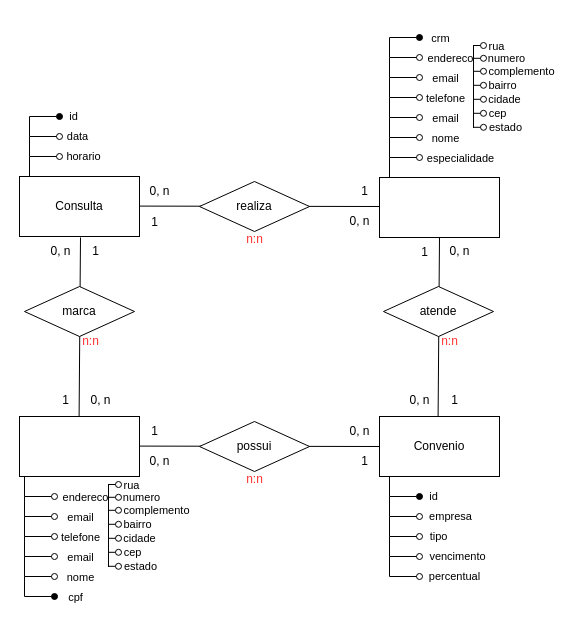
Image size: 571x622. Some labels were removed from this diagram. Each missing label, with the centre of its shape:
"Medico" belongs at pixel 439 207.
"Paciente" belongs at pixel 79 446.
